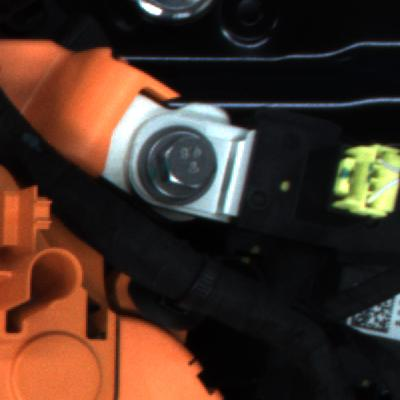nut_b: (136, 121, 224, 206)
